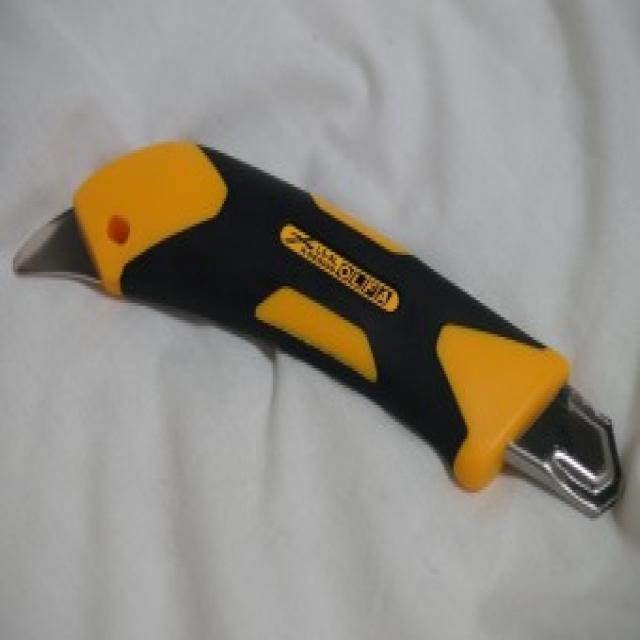cutter: (3, 119, 633, 545)
